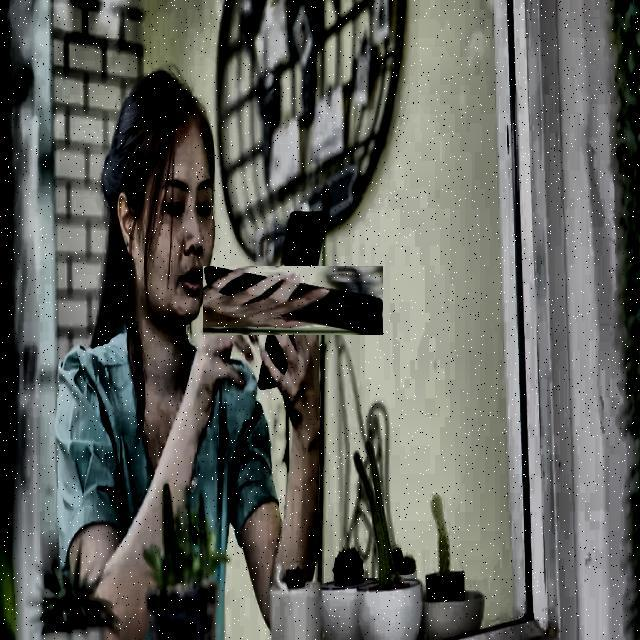Phone: (230, 238, 355, 363)
